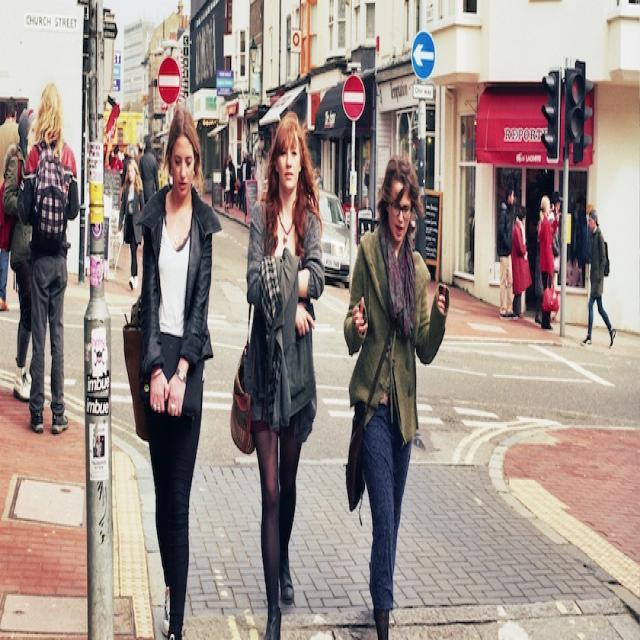body: (340, 146, 455, 638), (120, 99, 223, 639), (225, 105, 328, 639), (18, 81, 80, 436), (466, 164, 585, 290), (0, 105, 36, 402), (0, 93, 28, 314), (99, 120, 165, 209), (579, 207, 617, 352), (116, 156, 145, 294), (536, 194, 562, 334), (495, 183, 518, 323), (509, 202, 533, 322), (218, 149, 255, 215), (538, 203, 552, 329), (138, 139, 159, 204), (108, 147, 124, 226), (550, 189, 562, 288), (312, 166, 324, 242), (220, 154, 232, 215), (92, 430, 106, 469), (90, 256, 100, 285), (92, 214, 100, 236)
